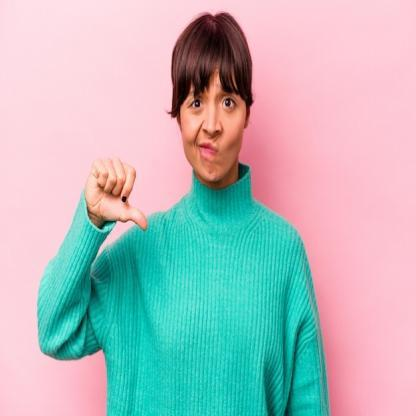thumb_down: (84, 151, 150, 236)
